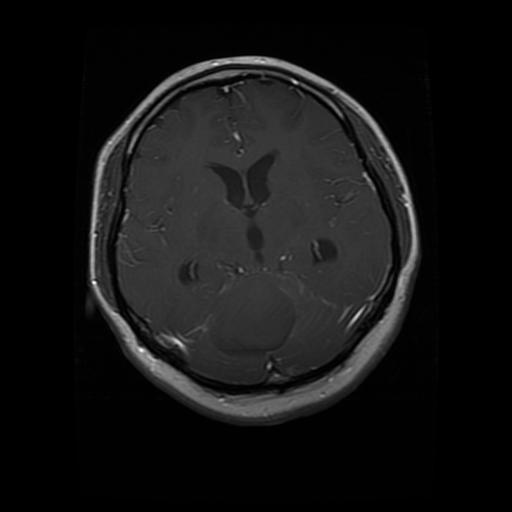Gliomia_tumour: (203, 273, 289, 348)
